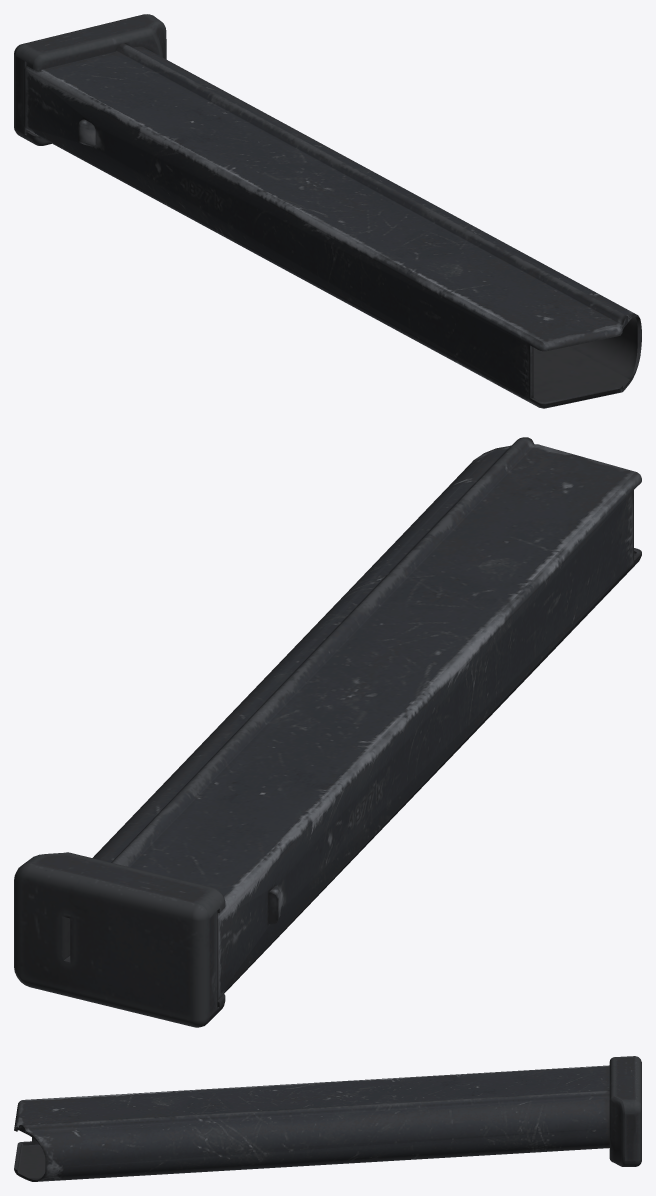
File: Mag380ExtLg_Ground.fbx
3 views of the same model, one above another, from view 1: azimuth 30°, elevation 25°; view 2: azimuth 150°, elevation 25°; view 3: azimuth 270°, elevation 25° (orthographic). The views are drawn at different scales.
Visible parts, largest first — view 1: Mag380Ext; view 2: Mag380Ext; view 3: Mag380Ext.
Boxes of the visible parts, x1,y1,x2,y2 form: Mag380Ext: (14, 14, 641, 408); Mag380Ext: (14, 437, 641, 1027); Mag380Ext: (14, 1056, 641, 1181).
Bounding box in the file's own units: 0.0404 × 0.0159 × 0.1371.
